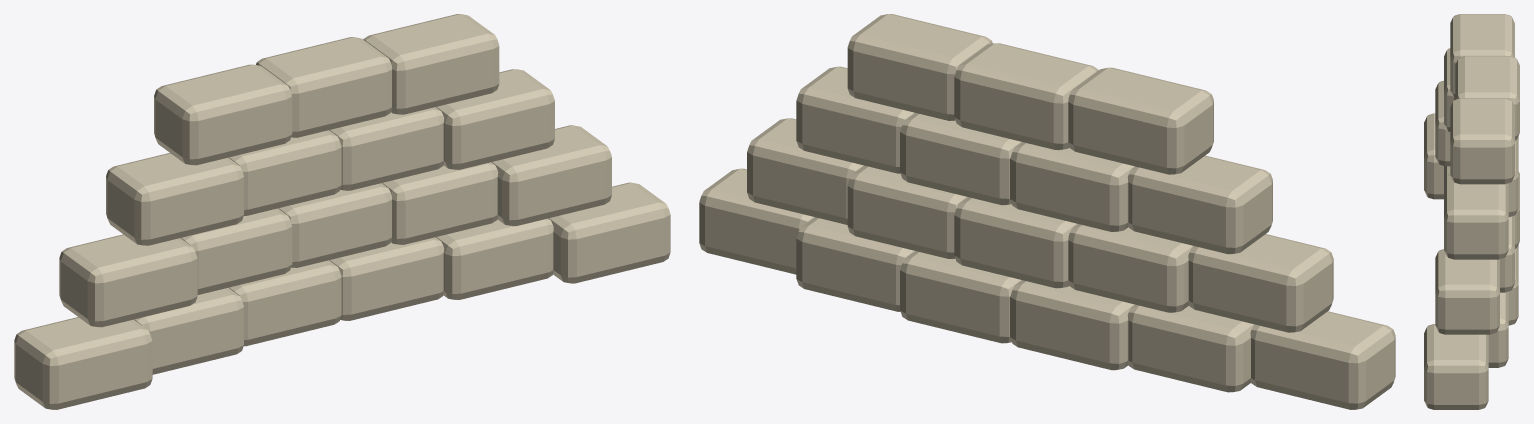
Rendered from Barricade_Sandbags.fbx.
3 renders of one model, left to right at view 1: azimuth 30°, elevation 25°; view 2: azimuth 150°, elevation 25°; view 3: azimuth 270°, elevation 25°, orthographic. The views are drawn at different scales.
Visible parts, largest first — view 1: Barricade_Sandbags; view 2: Barricade_Sandbags; view 3: Barricade_Sandbags.
Boxes of the visible parts, left/top/right/bottom form: Barricade_Sandbags: left=14, top=14, right=670, bottom=409; Barricade_Sandbags: left=699, top=14, right=1395, bottom=409; Barricade_Sandbags: left=1424, top=14, right=1519, bottom=409.
Size of the model in its own units: 2.42 by 0.94 by 0.385.
